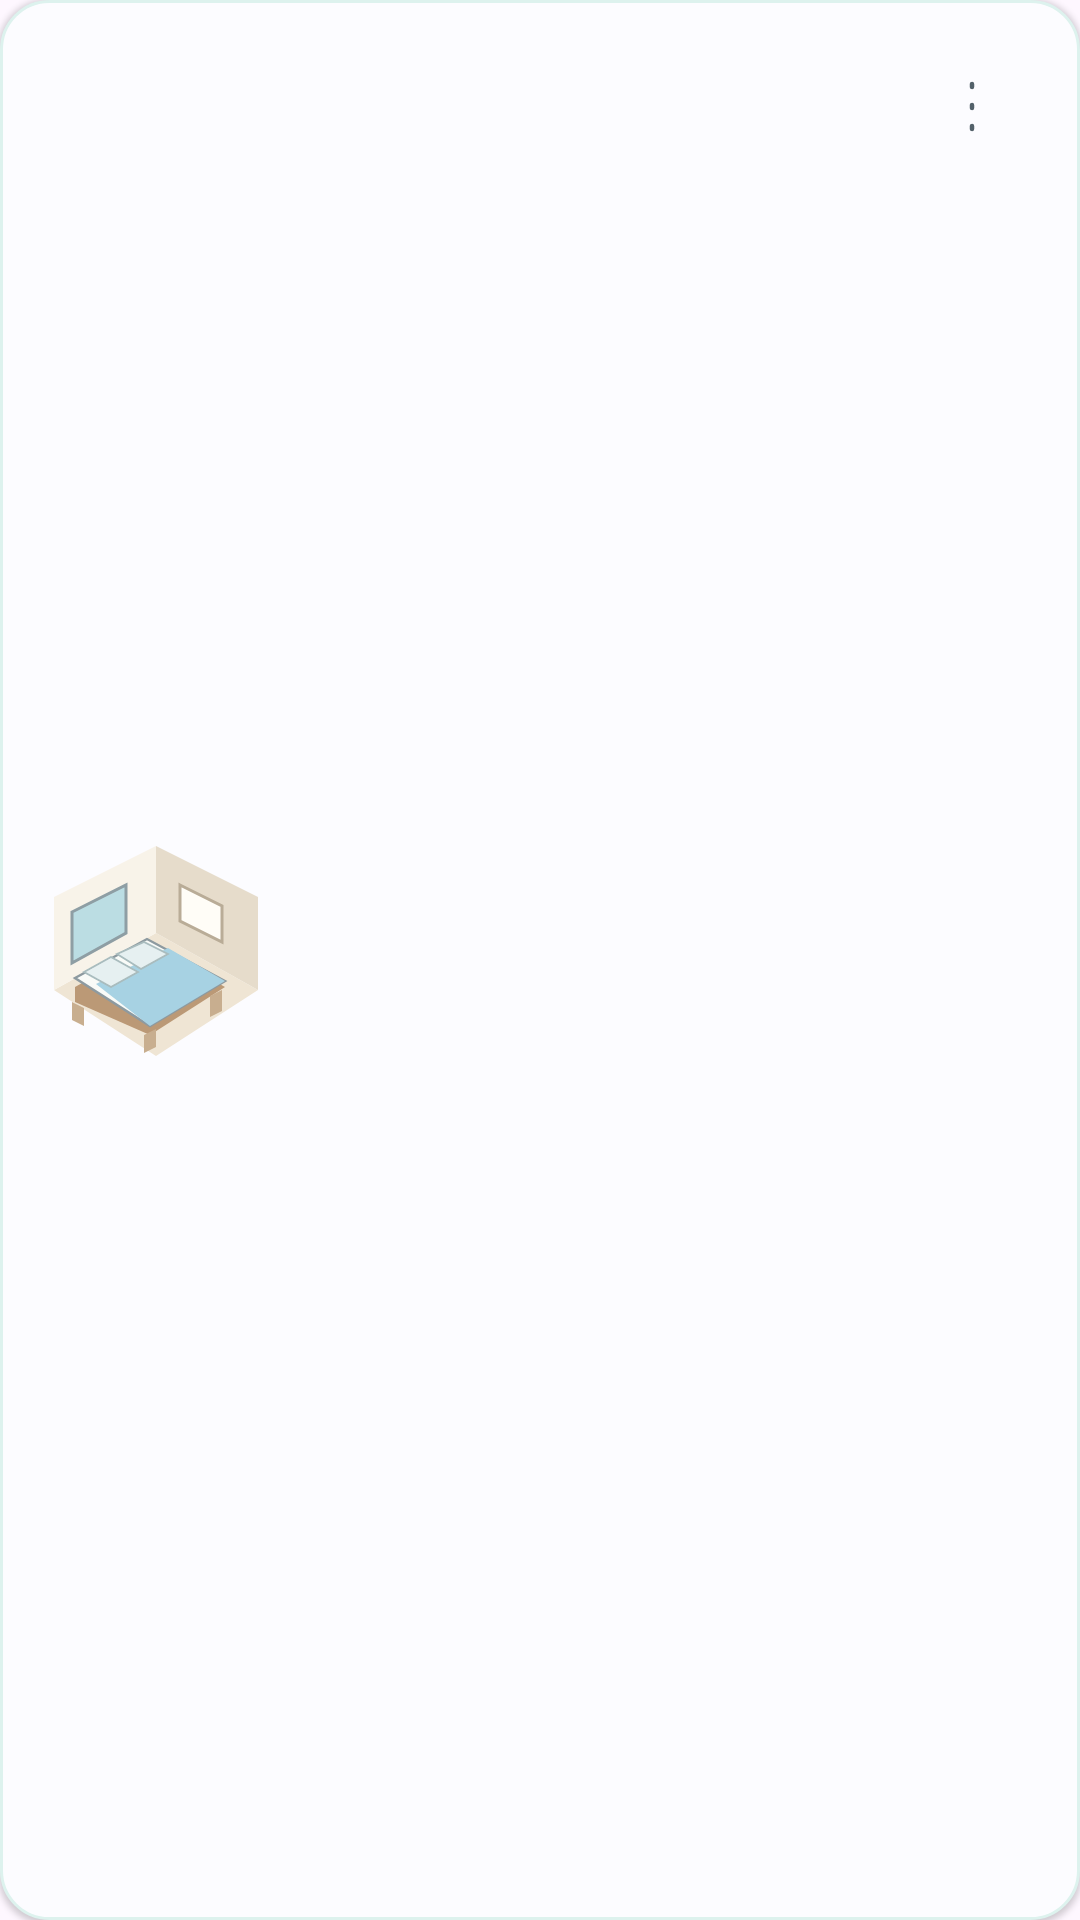

Screen size 1080x1920. Icon name, then its box in pixels as (x1, y1, x2, y2):
room: (55, 846, 258, 1056)
